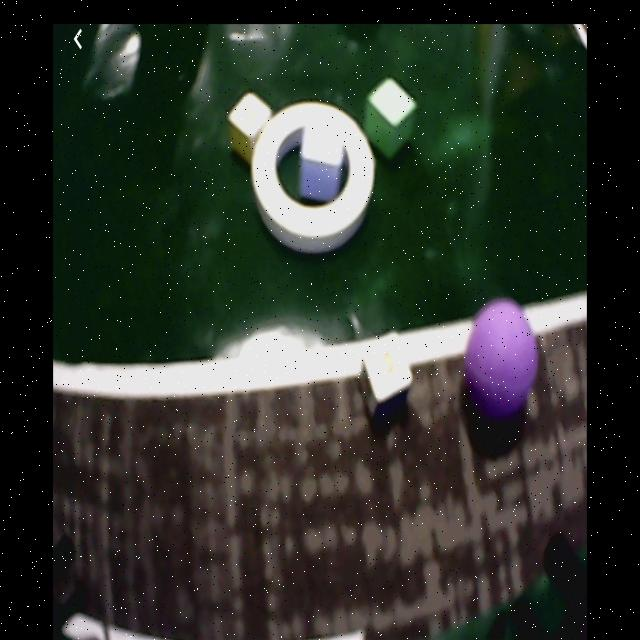ball: (464, 299, 539, 412)
